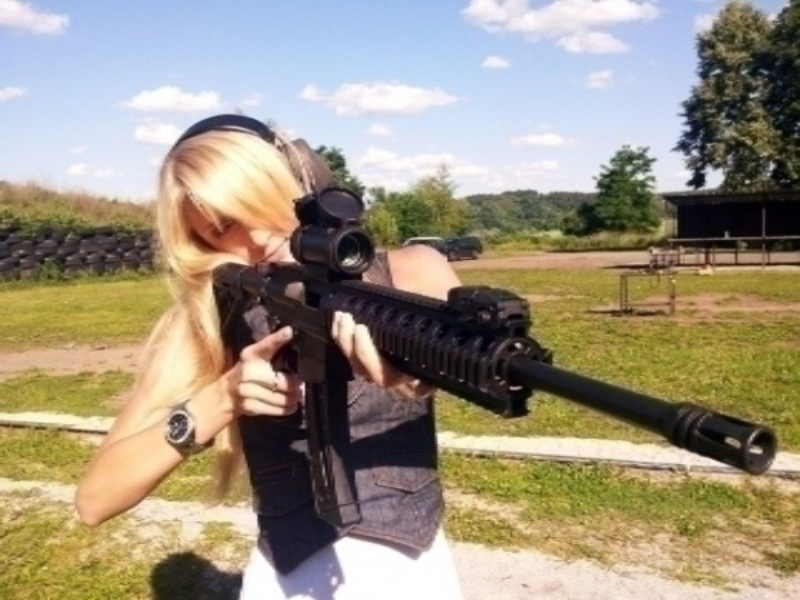person: (75, 113, 463, 600)
weapon: (212, 188, 778, 527)
